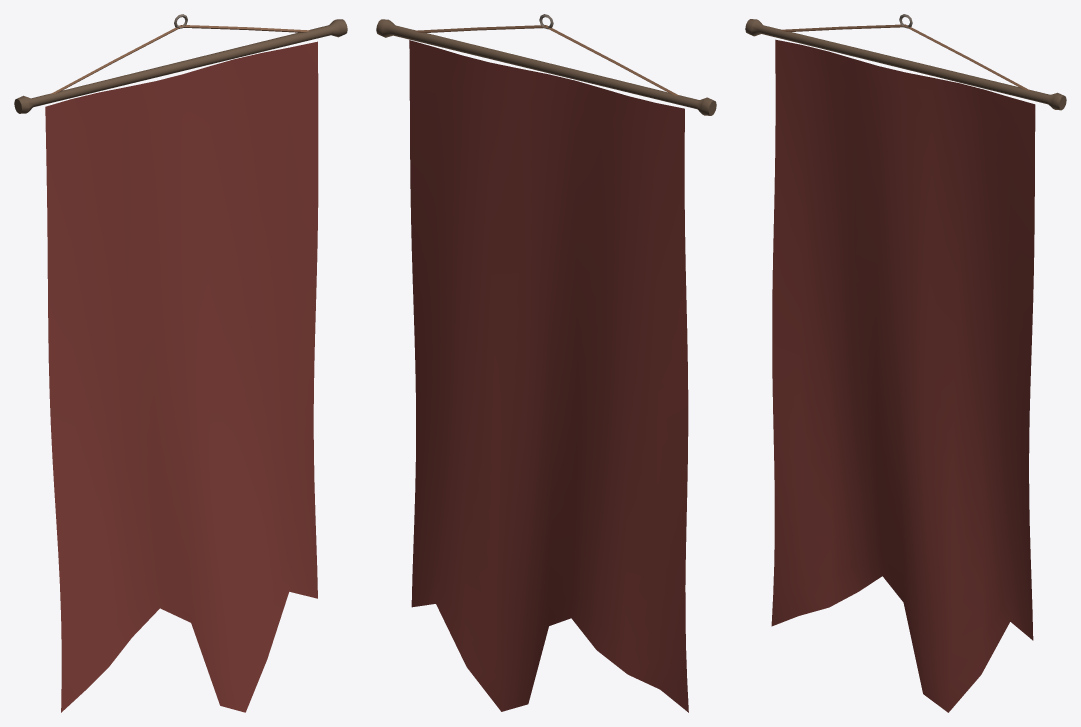
File: banner_torn.glb
The picture shows the model from 3 angles, left to right: view 1: azimuth 30°, elevation 25°; view 2: azimuth 150°, elevation 25°; view 3: azimuth 330°, elevation 25°; orthographic projection. The views are drawn at different scales.
Parts seen in each view (by area): view 1: banner_torn; view 2: banner_torn; view 3: banner_torn.
Part boxes in pixels (x1=…): banner_torn: x1=14, y1=14, x2=347, y2=712; banner_torn: x1=376, y1=14, x2=716, y2=712; banner_torn: x1=745, y1=14, x2=1066, y2=712.
Bounding box in the file's own units: 1.44 × 2.97 × 0.117.
